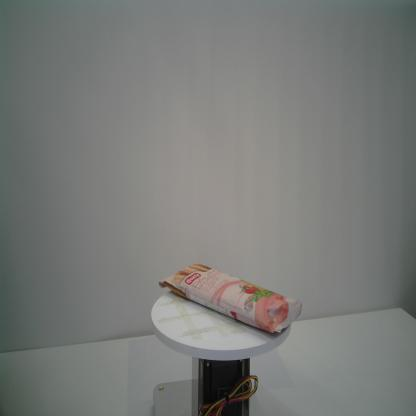Dessert: (158, 261, 304, 337)
